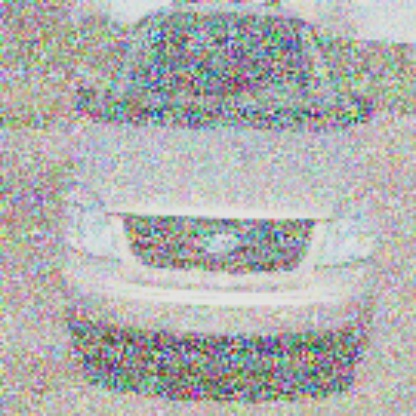Vehicle: (58, 1, 384, 390)
